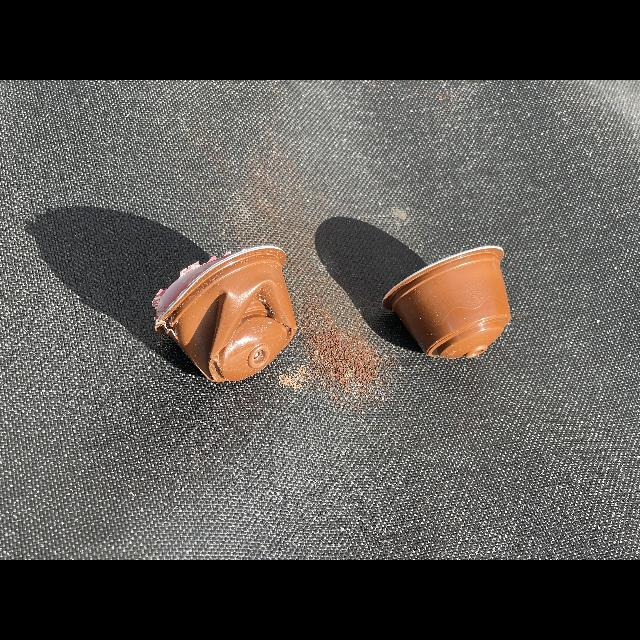damaged_capsule: (144, 238, 300, 394)
intact_capsule: (344, 238, 516, 394)
